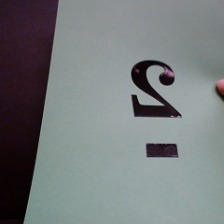green2: (123, 55, 192, 166)
